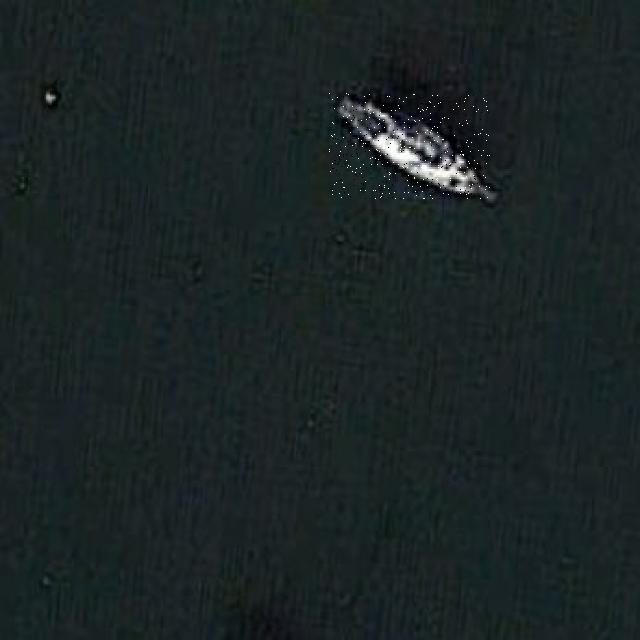boat: (329, 93, 490, 199)
